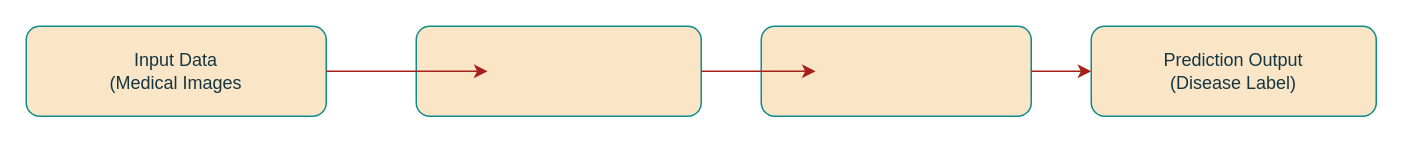
Some shapes in this 1403 by 143 pixel diagram are drawn without their labels. Each missing label, with the centre of its shape:
CNN Model (ResNet/EfficientNet): point 895,70
Preprocessing (Resize, Normalize): point 558,70
